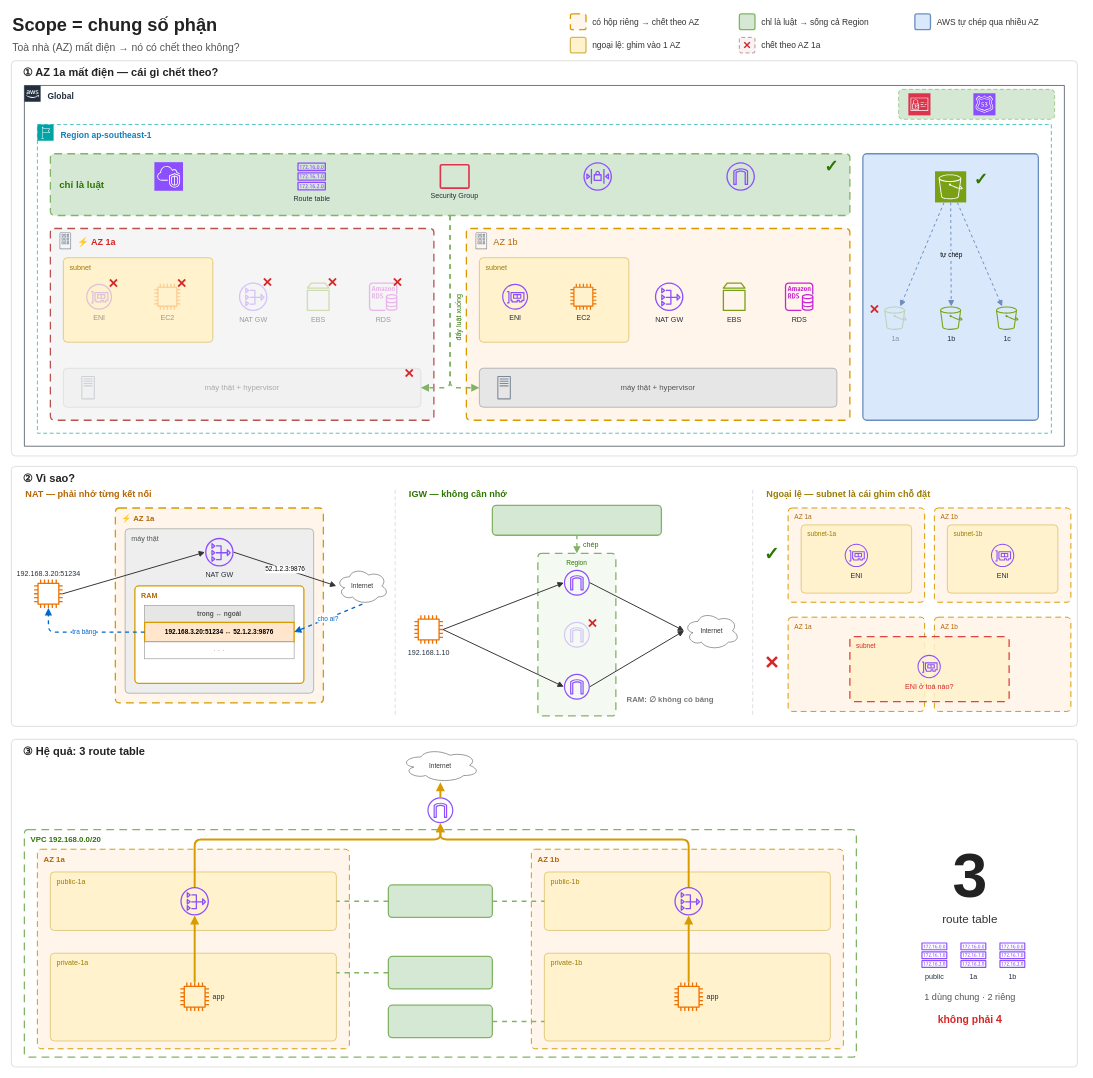
Some shapes in this 1093 by 1078 pixel diagram are drawn without their labels. Each missing label, with the centre of its shape:
"192.168.1.10 ↔ 54.1.2.3 cố định" belongs at pixel 576 520.
"IAM" belongs at pixel 919 104.
"IGW · 1 cái" belongs at pixel 440 810.
"Internet GW" belongs at pixel 740 176.
"NACL" belongs at pixel 597 176.
"NAT-1a" belongs at pixel 194 901.
"NAT-1b" belongs at pixel 688 901.
"private-rt-1a 0/0 → NAT-1a" belongs at pixel 440 972.
"private-rt-1b 0/0 → NAT-1b" belongs at pixel 440 1021.
"public-rt 0/0 → IGW" belongs at pixel 440 901.
"Route 53" belongs at pixel 984 104.
"S3" belongs at pixel 950 186.
"VPC" belongs at pixel 168 176.
